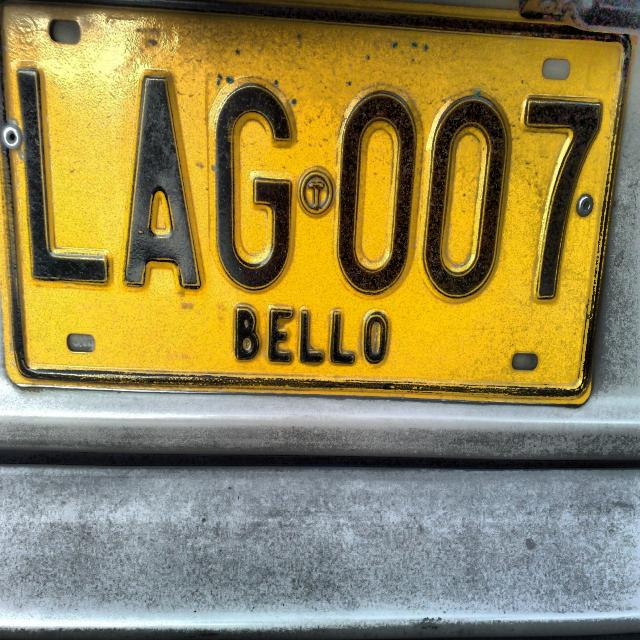plate: (1, 0, 639, 408)
